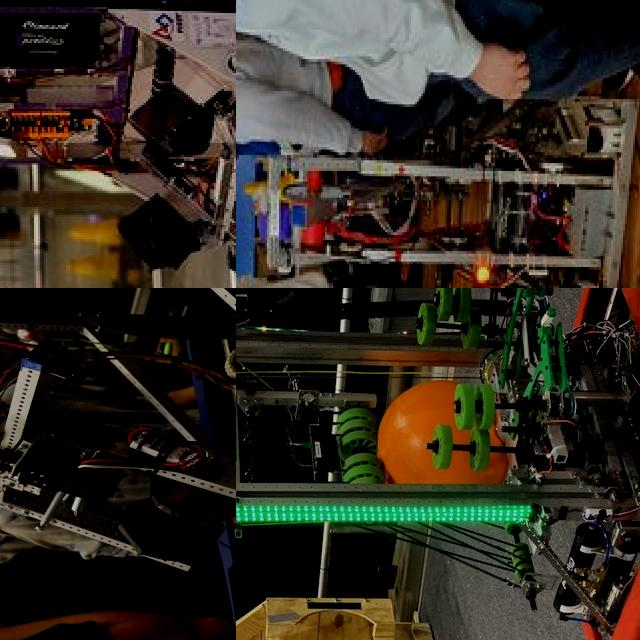FRC-Robots: (236, 288, 640, 640), (236, 82, 640, 288), (0, 288, 236, 635), (0, 0, 236, 288)
